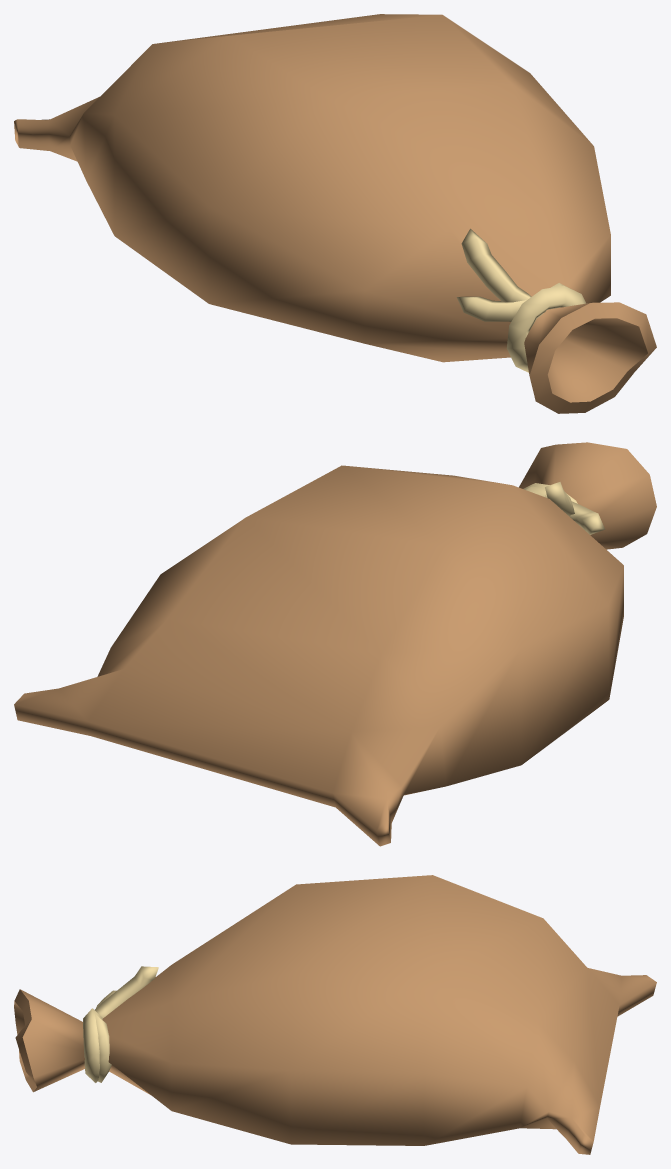
The model's file is Bundle_Beige_B.fbx.
3 renders of one model, top to bottom at view 1: azimuth 30°, elevation 25°; view 2: azimuth 150°, elevation 25°; view 3: azimuth 270°, elevation 25°, orthographic. The views are drawn at different scales.
Visible parts, largest first — view 1: Bundle_Beige_B; view 2: Bundle_Beige_B; view 3: Bundle_Beige_B.
Boxes of the visible parts, x1,y1,x2,y2 form: Bundle_Beige_B: (14, 14, 656, 413); Bundle_Beige_B: (14, 442, 656, 846); Bundle_Beige_B: (14, 875, 656, 1154).
Size of the model in its own units: 65.4 by 31.36 by 105.
